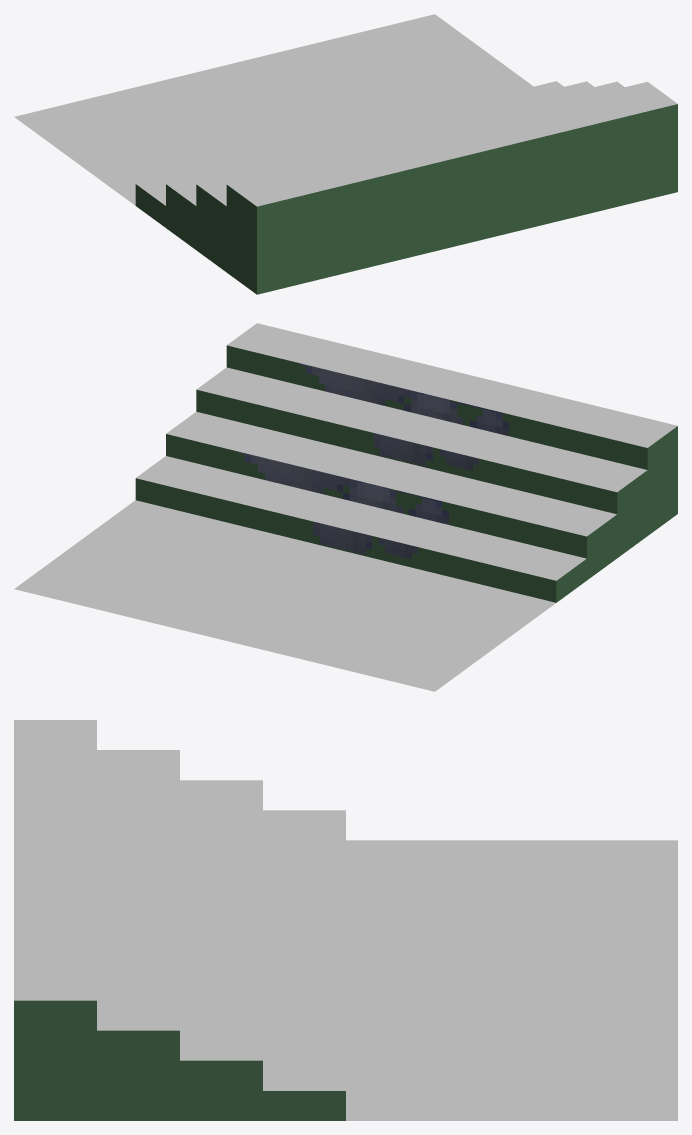
The model's file is floor_steps.dae.
3 renders of one model, top to bottom at view 1: azimuth 30°, elevation 25°; view 2: azimuth 150°, elevation 25°; view 3: azimuth 270°, elevation 25°, orthographic. The views are drawn at different scales.
Parts seen in each view (by area): view 1: floor_steps; view 2: floor_steps; view 3: floor_steps.
Boxes of the visible parts, left/top/right/bottom form: floor_steps: left=14, top=14, right=677, bottom=294; floor_steps: left=14, top=323, right=677, bottom=691; floor_steps: left=14, top=720, right=677, bottom=1120.
Size of the model in its own units: 1 by 0.2 by 1.
